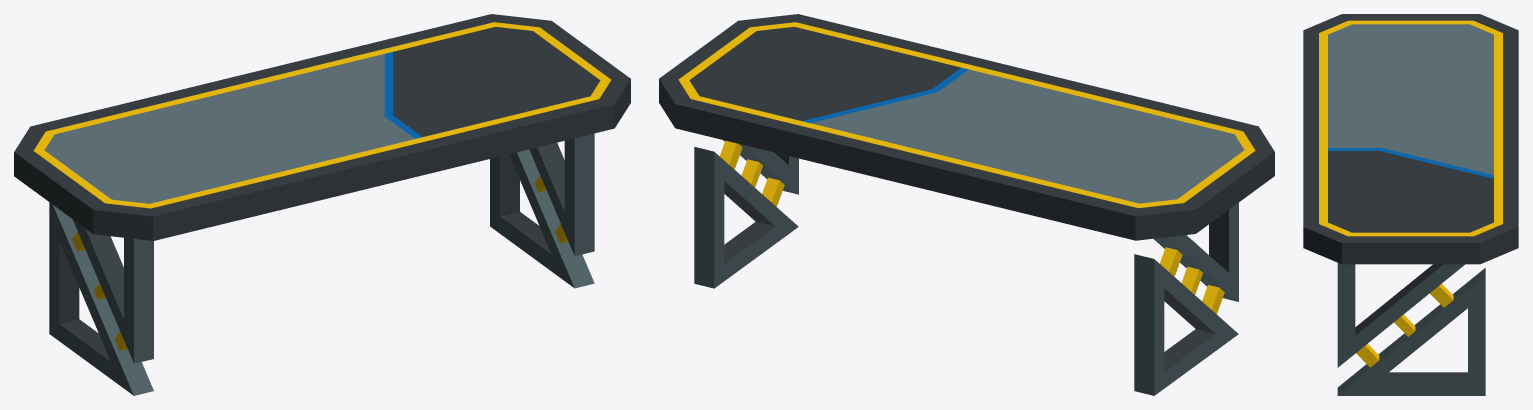
The model's file is Desk_005.fbx.
The picture shows the model from 3 angles, left to right: view 1: azimuth 30°, elevation 25°; view 2: azimuth 150°, elevation 25°; view 3: azimuth 270°, elevation 25°; orthographic projection. The views are drawn at different scales.
Parts seen in each view (by area): view 1: Desk_005; view 2: Desk_005; view 3: Desk_005.
Part boxes in pixels (box(x1,y1,x2,y2)): Desk_005: box(14, 14, 630, 395); Desk_005: box(659, 14, 1274, 395); Desk_005: box(1303, 14, 1518, 395).
Size of the model in its own units: 244 by 96.98 by 84.18.
